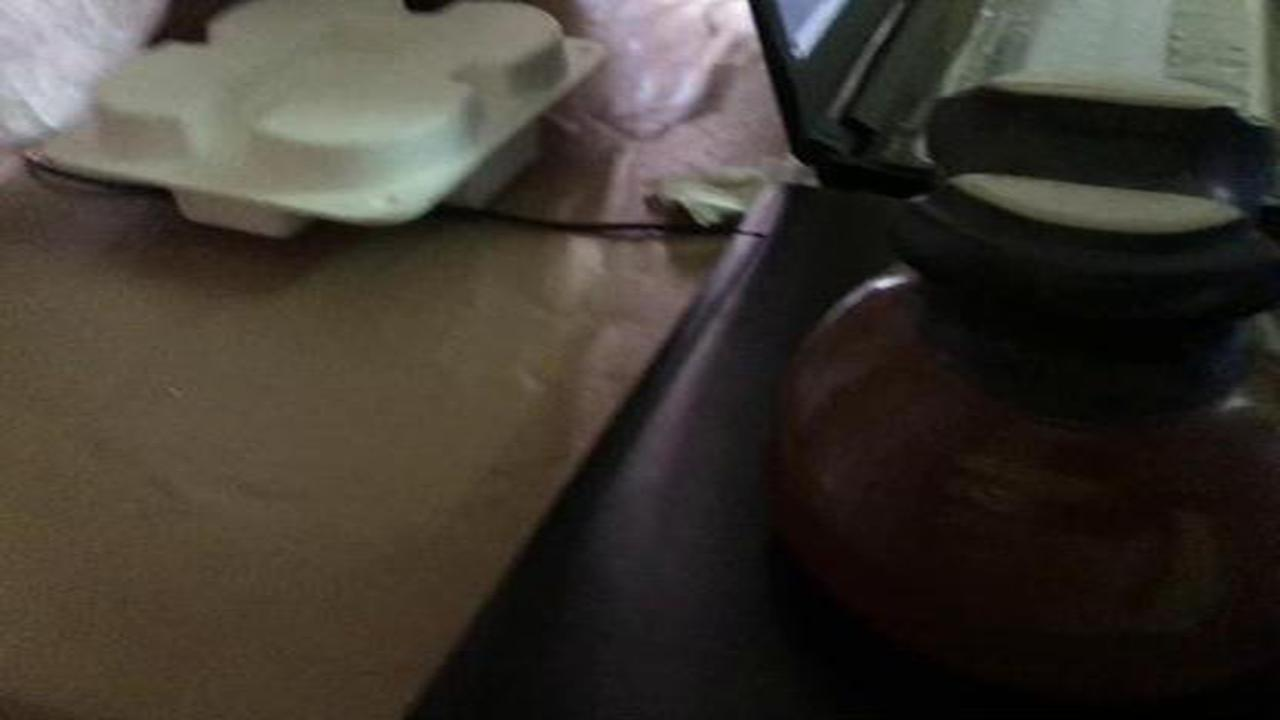insulator_pin: (754, 61, 1280, 662)
